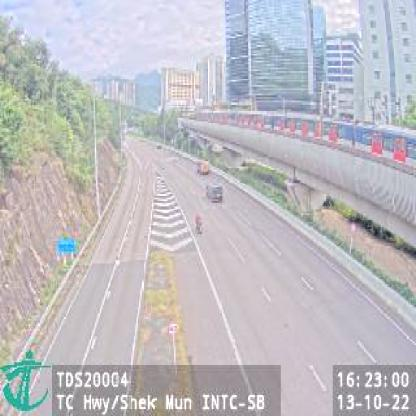Car: (206, 178, 225, 203), (196, 158, 210, 175)
